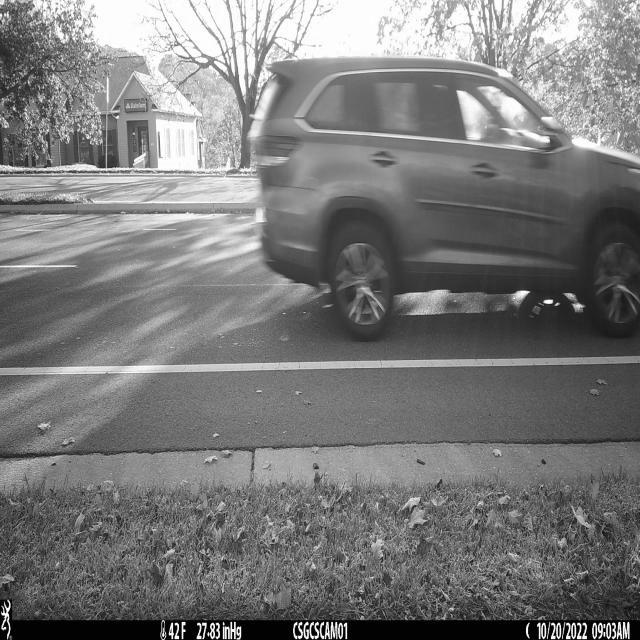SUV: (252, 57, 640, 341)
